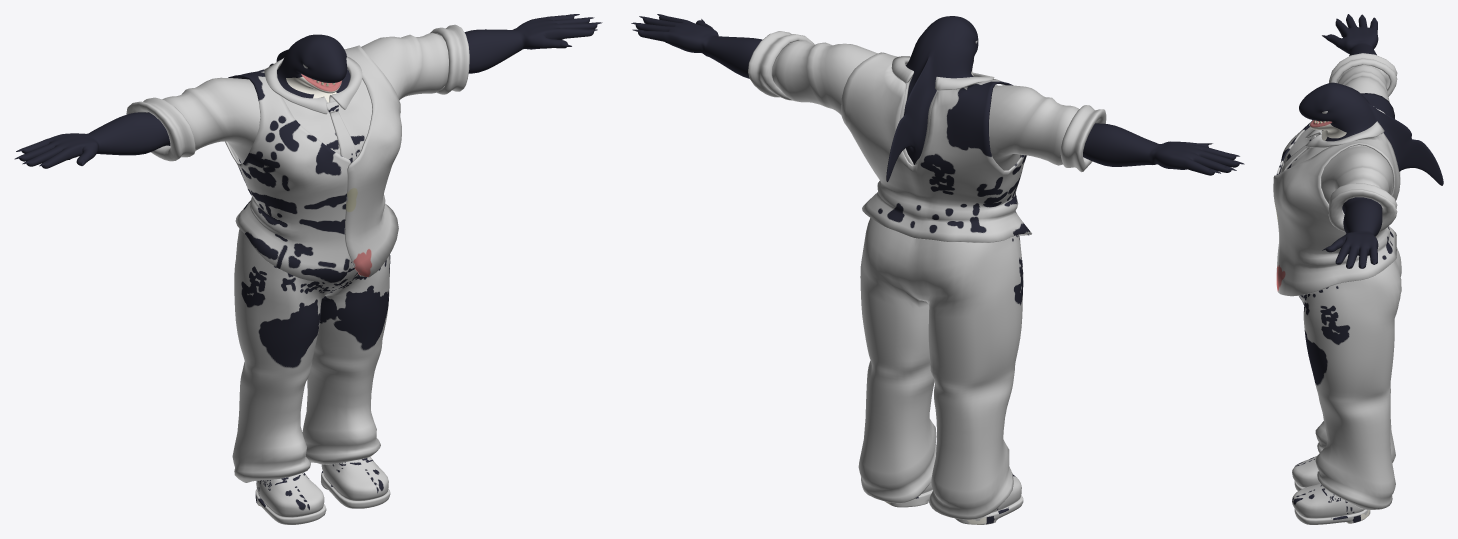
Rendered from del_boss_clothes1 (1).fbx.
The picture shows the model from 3 angles, left to right: view 1: azimuth 30°, elevation 25°; view 2: azimuth 150°, elevation 25°; view 3: azimuth 270°, elevation 25°; orthographic projection. The views are drawn at different scales.
Visible parts, largest first — view 1: Pants, Vest, shirt, Plane, shoes, tie; view 2: Pants, Vest, shirt, Plane, shoes; view 3: Pants, Vest, Plane, shirt, shoes, tie.
Part boxes in pixels (<box>): Pants: <box>232,228,390,482</box>; Vest: <box>225,45,401,283</box>; shirt: <box>126,24,469,163</box>; Plane: <box>14,14,602,168</box>; shoes: <box>255,456,390,524</box>; tie: <box>326,101,356,161</box>; Pants: <box>858,218,1023,519</box>; Vest: <box>841,52,1031,242</box>; shirt: <box>748,31,1106,172</box>; Plane: <box>631,14,1244,181</box>; shoes: <box>885,474,1023,524</box>; Pants: <box>1298,247,1401,509</box>; Vest: <box>1273,93,1400,296</box>; Plane: <box>1299,14,1443,268</box>; shirt: <box>1283,53,1397,232</box>; shoes: <box>1292,456,1370,524</box>; tie: <box>1281,135,1315,172</box>.
Size of the model in its own units: 378 by 289 by 107.
Materials: 7 (7 with a texture image).
